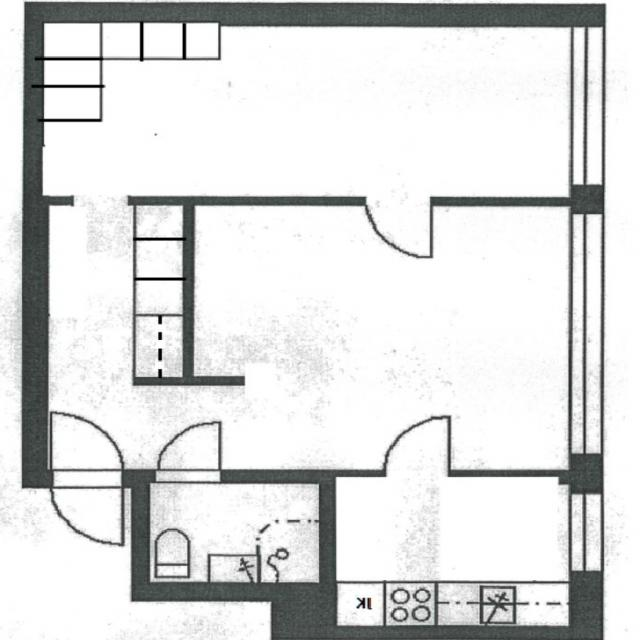door: (54, 470, 124, 548), (54, 411, 124, 488), (159, 418, 221, 483), (368, 196, 432, 258), (387, 417, 450, 477)
